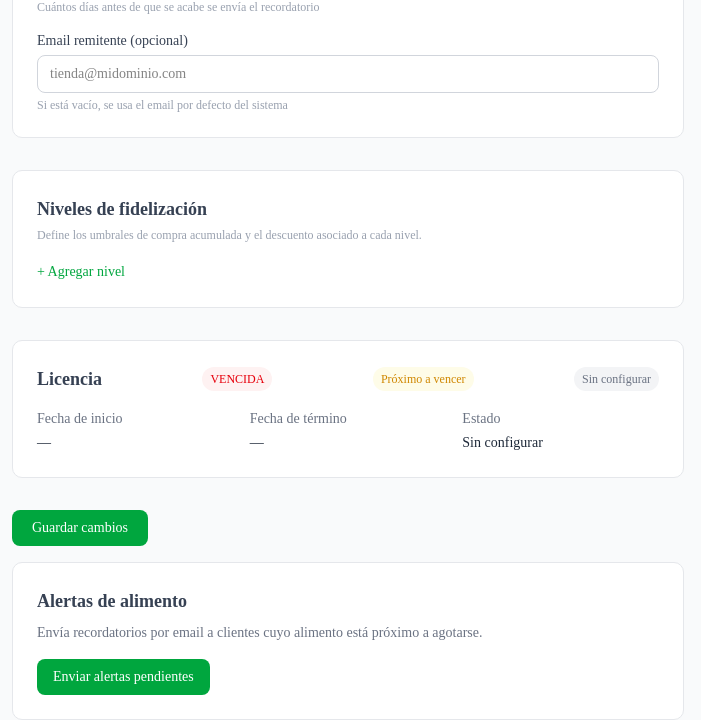
Test: SettingsPage — enviar alertas pendientes (C-90) › C-90: el botón hace POST /api/email/send-alerts y muestra enviadas/omitidas
(page scrolled)
Click the button "Enviar alertas pendientes". click: (123, 677)
box: [37,659,210,695]
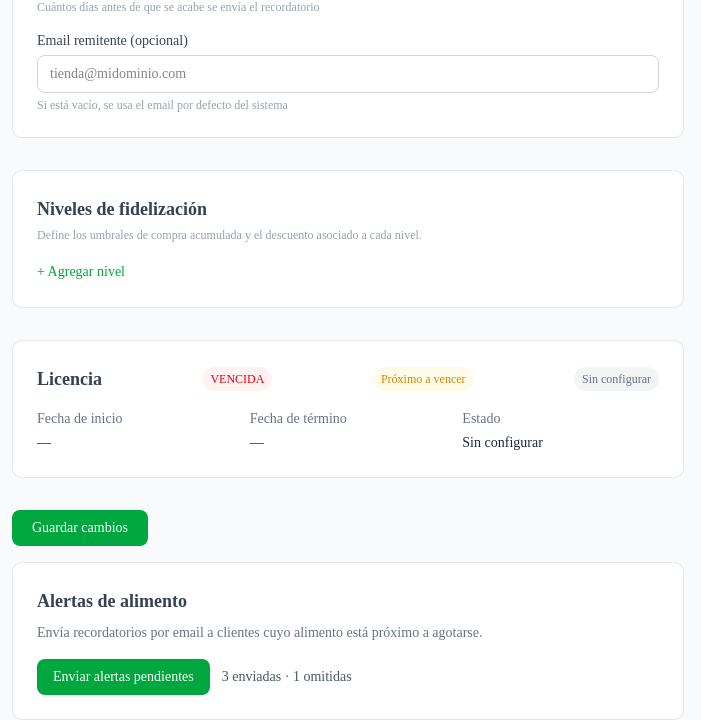
Check: the text "3 enviadas · 1 omitidas" is shown, box [222,667,352,687]
